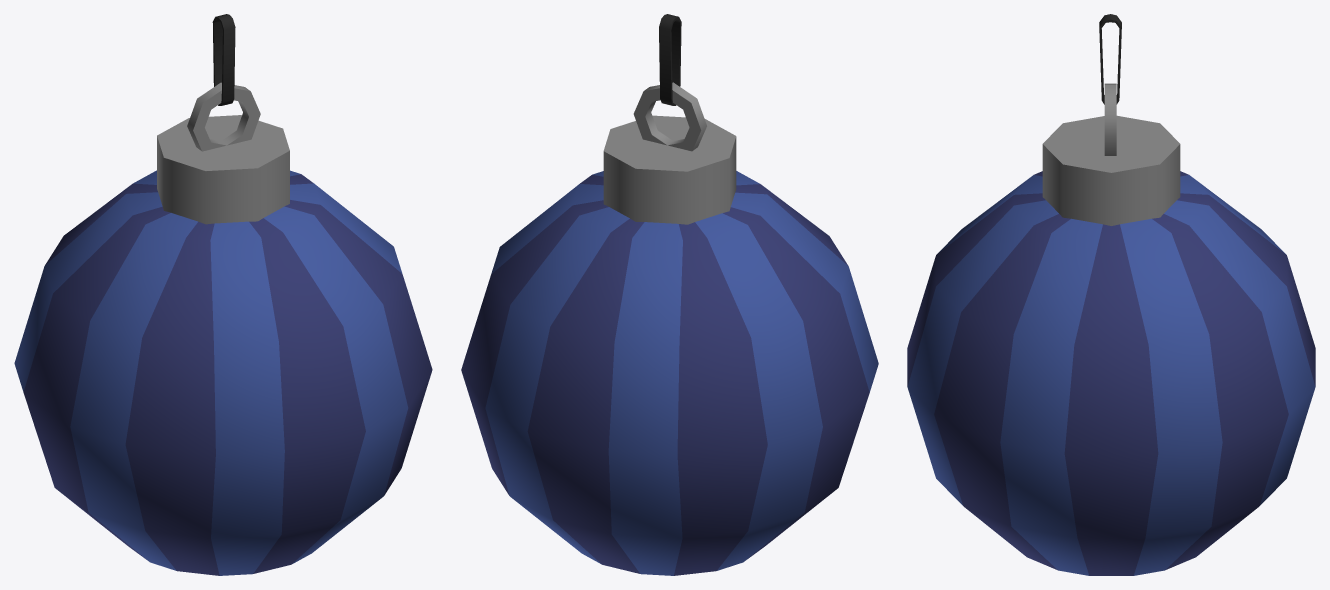
File: Ornament_05.fbx
The picture shows the model from 3 angles, left to right: view 1: azimuth 30°, elevation 25°; view 2: azimuth 150°, elevation 25°; view 3: azimuth 270°, elevation 25°; orthographic projection.
Parts seen in each view (by area): view 1: Ornament_05; view 2: Ornament_05; view 3: Ornament_05.
Part boxes in pixels (x1=…): Ornament_05: x1=14, y1=14, x2=432, y2=575; Ornament_05: x1=461, y1=14, x2=878, y2=575; Ornament_05: x1=907, y1=14, x2=1315, y2=575.
Size of the model in its own units: 0.1112 by 0.159 by 0.1112.
